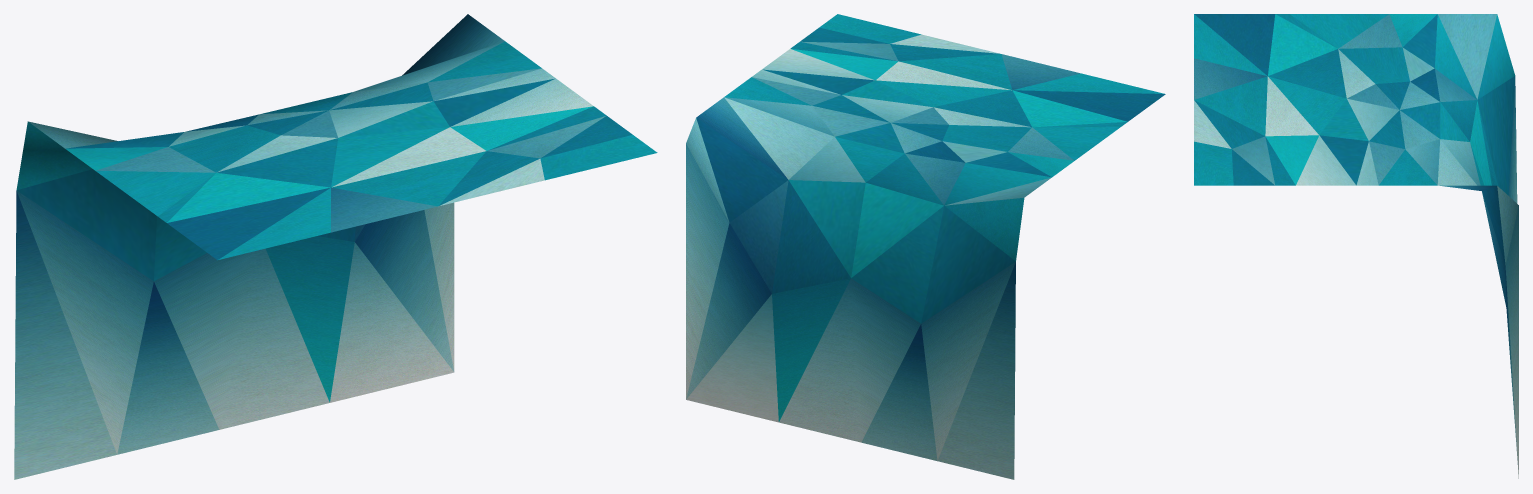
File: Water-part-03.fbx
The picture shows the model from 3 angles, left to right: view 1: azimuth 30°, elevation 25°; view 2: azimuth 150°, elevation 25°; view 3: azimuth 270°, elevation 25°; orthographic projection. The views are drawn at different scales.
Parts seen in each view (by area): view 1: Water-part-03; view 2: Water-part-03; view 3: Water-part-03.
Boxes of the visible parts, x1,y1,x2,y2 form: Water-part-03: (14, 14, 657, 479); Water-part-03: (686, 14, 1165, 479); Water-part-03: (1194, 14, 1518, 478).
Bounding box in the file's own units: 3 × 2.4 × 2.4.
